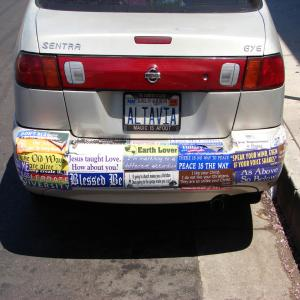Vehicle-registration-plate: (119, 89, 185, 133)
